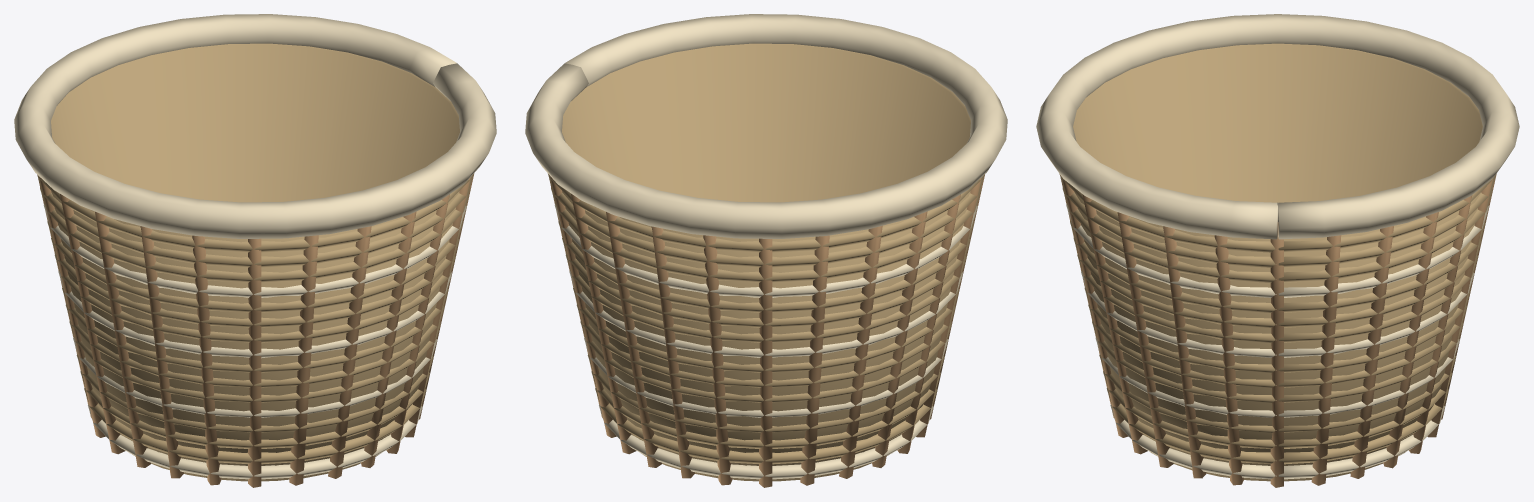
The model's file is woven-basket.glb.
The picture shows the model from 3 angles, left to right: view 1: azimuth 30°, elevation 25°; view 2: azimuth 150°, elevation 25°; view 3: azimuth 270°, elevation 25°; orthographic projection.
Parts seen in each view (by area): view 1: woven-basket__rope, woven-basket__linen, woven-basket__woodlight; view 2: woven-basket__rope, woven-basket__linen, woven-basket__woodlight; view 3: woven-basket__rope, woven-basket__linen, woven-basket__woodlight.
Boxes of the visible parts, x1,y1,x2,y2 form: woven-basket__rope: (37, 43, 473, 481); woven-basket__linen: (14, 14, 496, 479); woven-basket__woodlight: (38, 175, 473, 487); woven-basket__rope: (548, 43, 984, 481); woven-basket__linen: (525, 14, 1007, 479); woven-basket__woodlight: (549, 175, 984, 487); woven-basket__rope: (1059, 43, 1496, 481); woven-basket__linen: (1036, 14, 1519, 479); woven-basket__woodlight: (1060, 174, 1496, 487).
Size of the model in its own units: 0.9198 by 0.6429 by 0.92.
